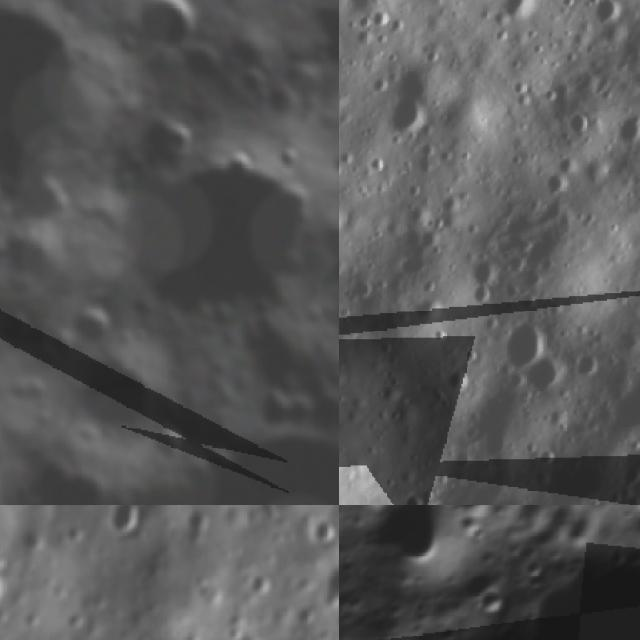crater: (75, 100, 339, 365), (0, 0, 142, 186), (48, 308, 204, 458), (488, 505, 640, 640), (342, 505, 500, 599), (0, 202, 79, 300), (117, 0, 219, 65), (483, 306, 558, 385), (292, 0, 339, 116), (219, 16, 284, 80), (511, 348, 573, 412), (374, 92, 435, 156), (62, 295, 120, 354), (253, 72, 309, 130), (255, 382, 310, 437), (455, 242, 506, 292), (580, 0, 637, 44), (603, 100, 640, 162), (487, 0, 549, 35), (551, 103, 596, 151), (312, 282, 339, 359), (156, 113, 199, 155), (566, 346, 609, 388), (466, 582, 505, 622), (532, 167, 571, 205), (544, 147, 582, 184), (269, 137, 305, 174), (465, 279, 502, 315), (110, 505, 147, 535), (387, 479, 429, 505), (414, 491, 463, 505), (311, 520, 332, 546), (325, 145, 339, 182)
